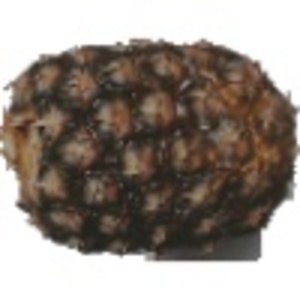abacaxi: (1, 33, 294, 252)
